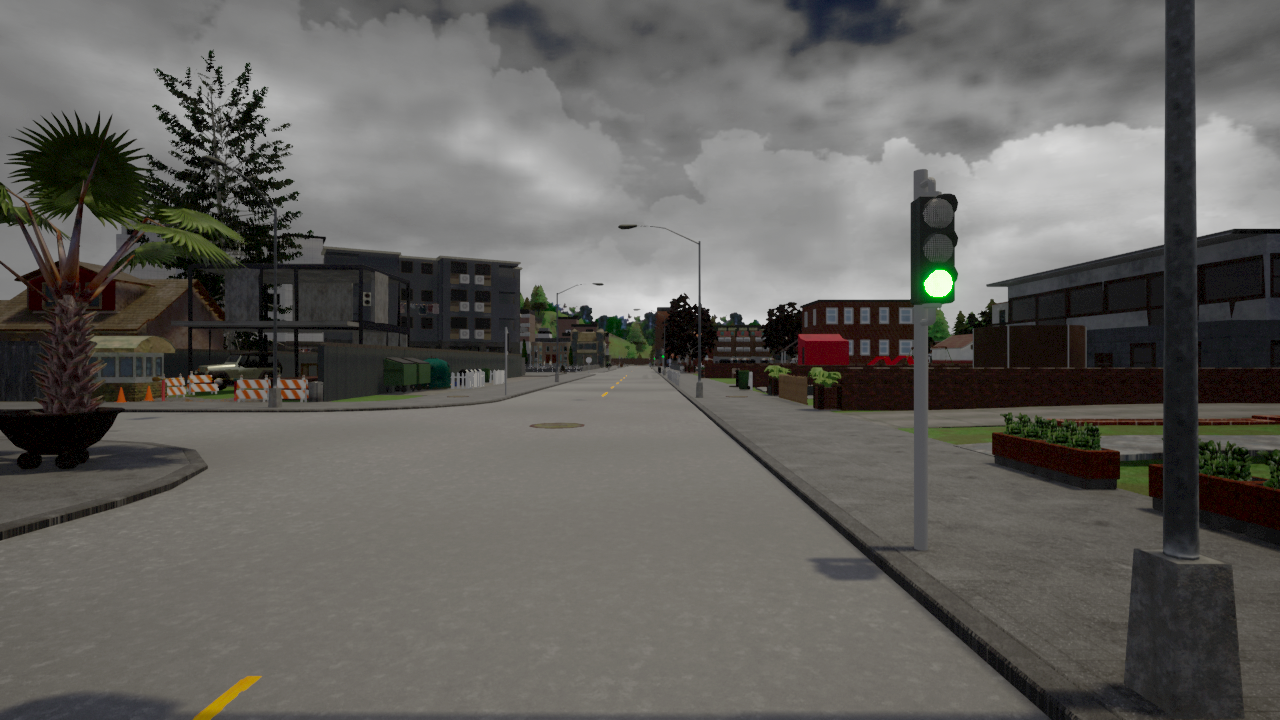green: (908, 191, 959, 307)
